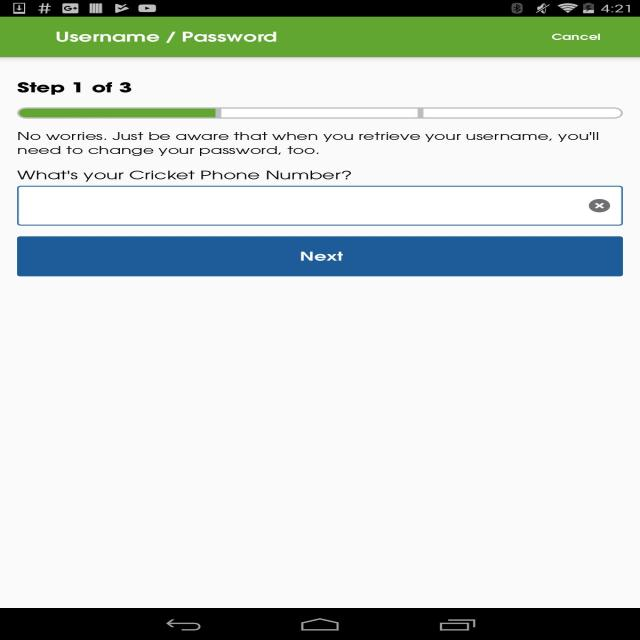button: (19, 237, 621, 275), (546, 28, 606, 46)
field: (17, 187, 620, 225)
heading: (55, 29, 278, 46), (17, 79, 132, 95)
text: (14, 128, 617, 181)
